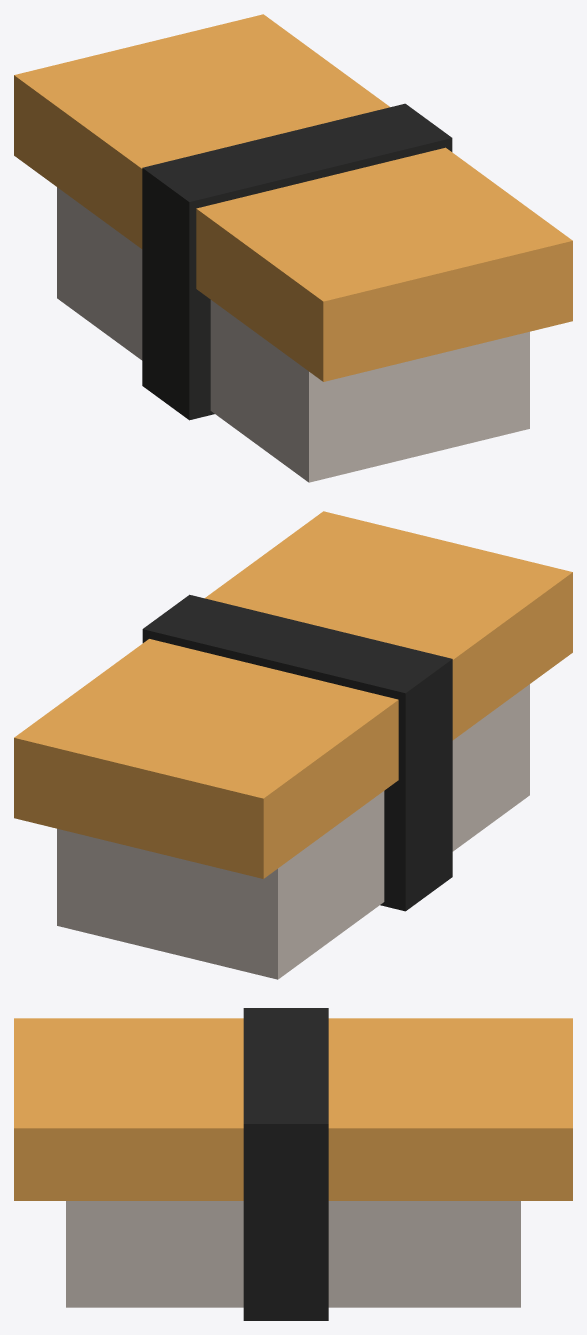
Rendered from Sushi-16.fbx.
The picture shows the model from 3 angles, top to bottom: view 1: azimuth 30°, elevation 25°; view 2: azimuth 150°, elevation 25°; view 3: azimuth 270°, elevation 25°; orthographic projection. The views are drawn at different scales.
Parts seen in each view (by area): view 1: Cube; view 2: Cube; view 3: Cube.
Part boxes in pixels (bbox=[...]): Cube: bbox=[14, 14, 572, 482]; Cube: bbox=[14, 511, 572, 979]; Cube: bbox=[14, 1008, 572, 1320].
Bounding box in the file's own units: 233 × 185 × 475.
1 material, 1 textured.
